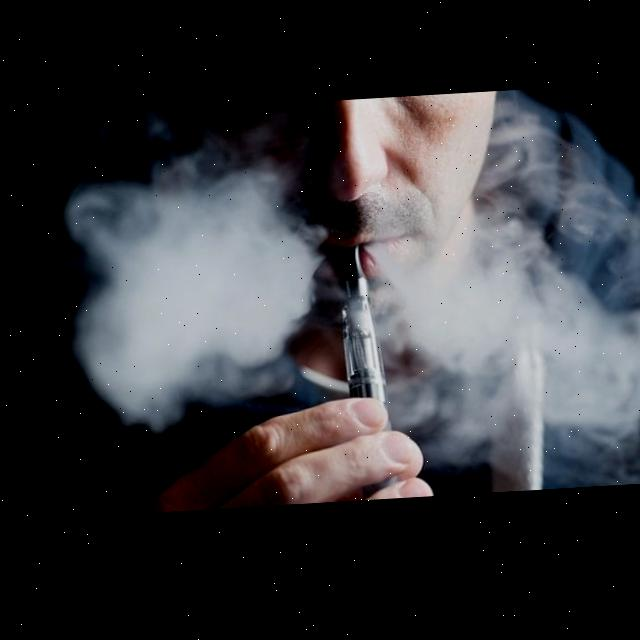vape: (333, 243, 384, 403)
